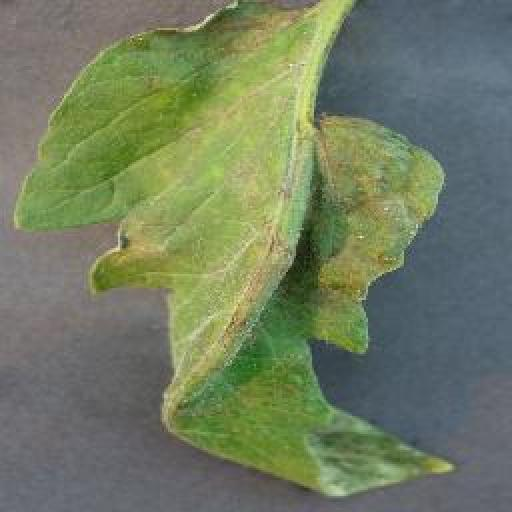disease_tomato: (9, 0, 452, 499)
